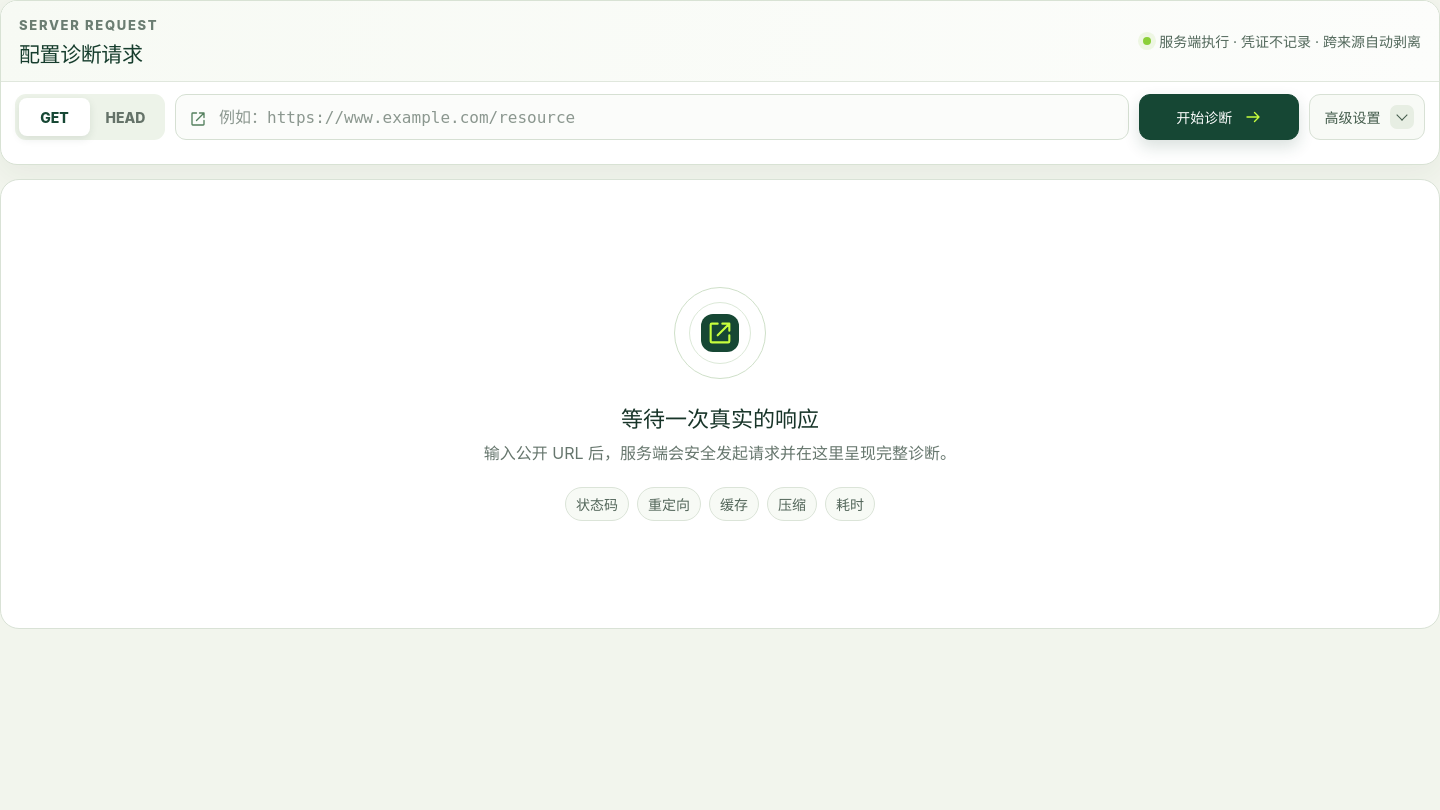
Test case: HttpDiagnosticsTool › normalizes fragments and redirects embedded credentials to the safe controls
Type "https://service.example.com/#/login" into the field named "目标 URL".
click(666, 117); type("https://service.example.com/#/login")  # box [217,96,1115,138]
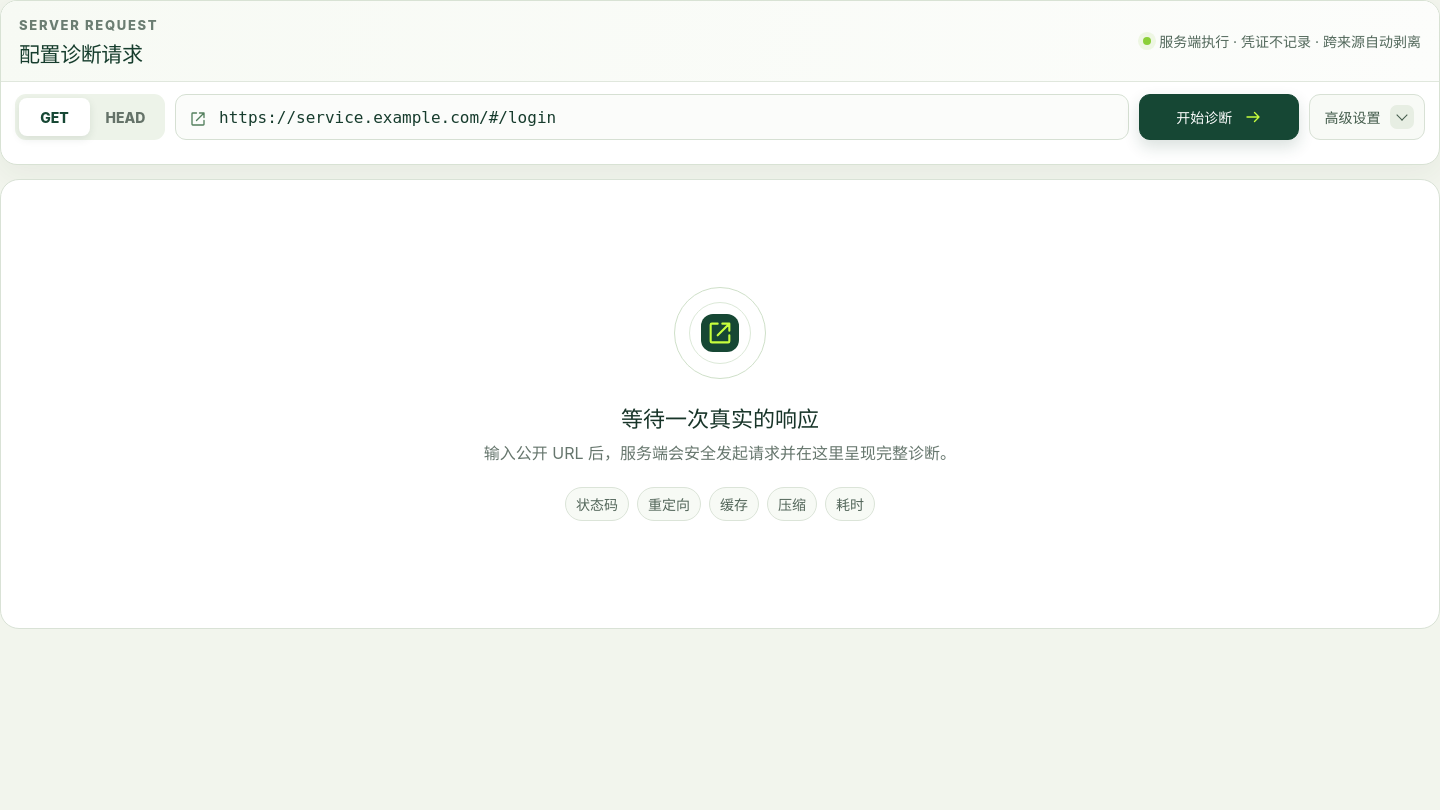
Click the button "开始诊断".
click(1219, 117)  # box [1139,94,1299,140]
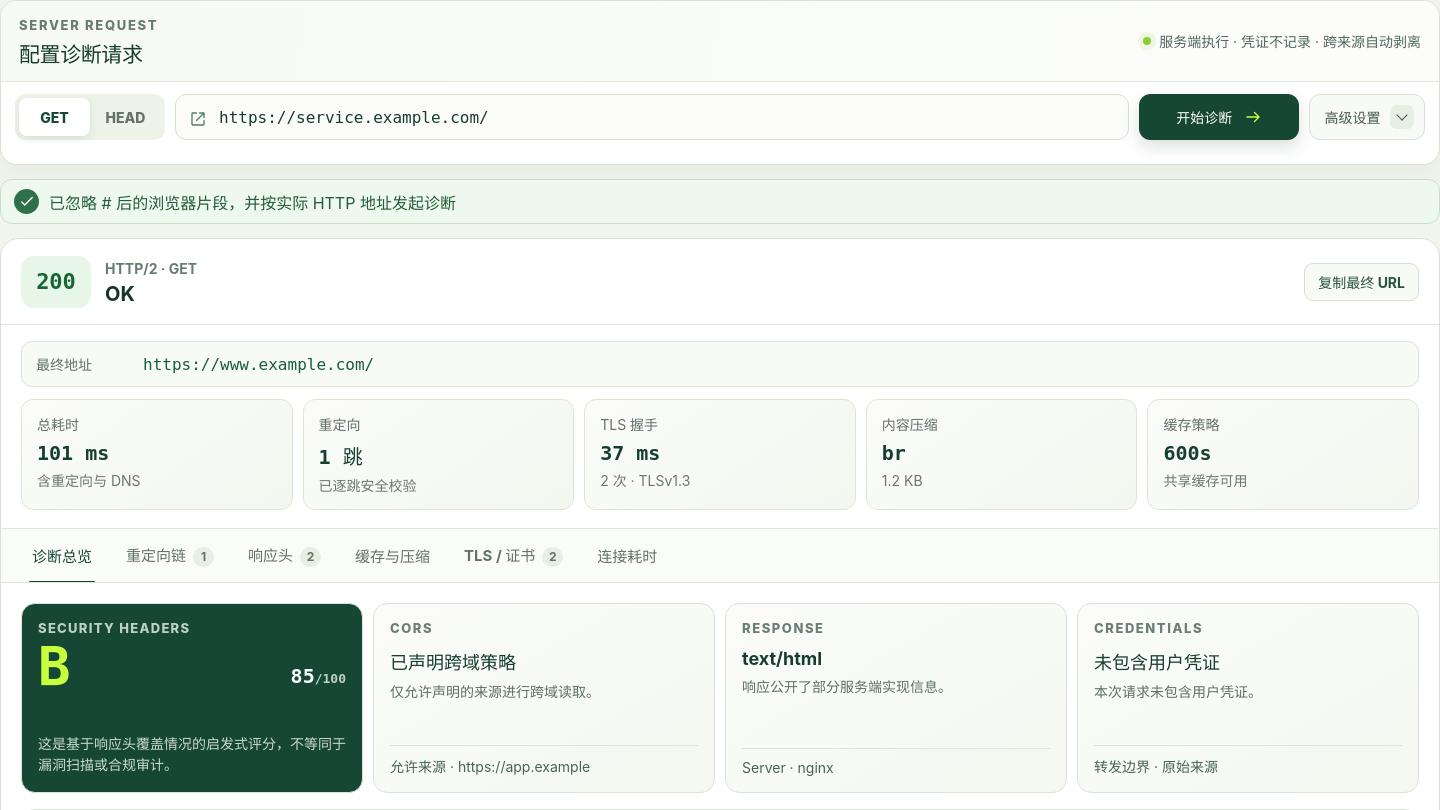
Expected: the field named "目标 URL" holds "https://service.example.com/"
Expected: the message shows "已忽略 # 后的浏览器片段", [49,192,456,212]
Replace the text in the field named "目标 URL" with "https://alice:secret@example.com/private" at (666, 117), box [217,96,1115,138]
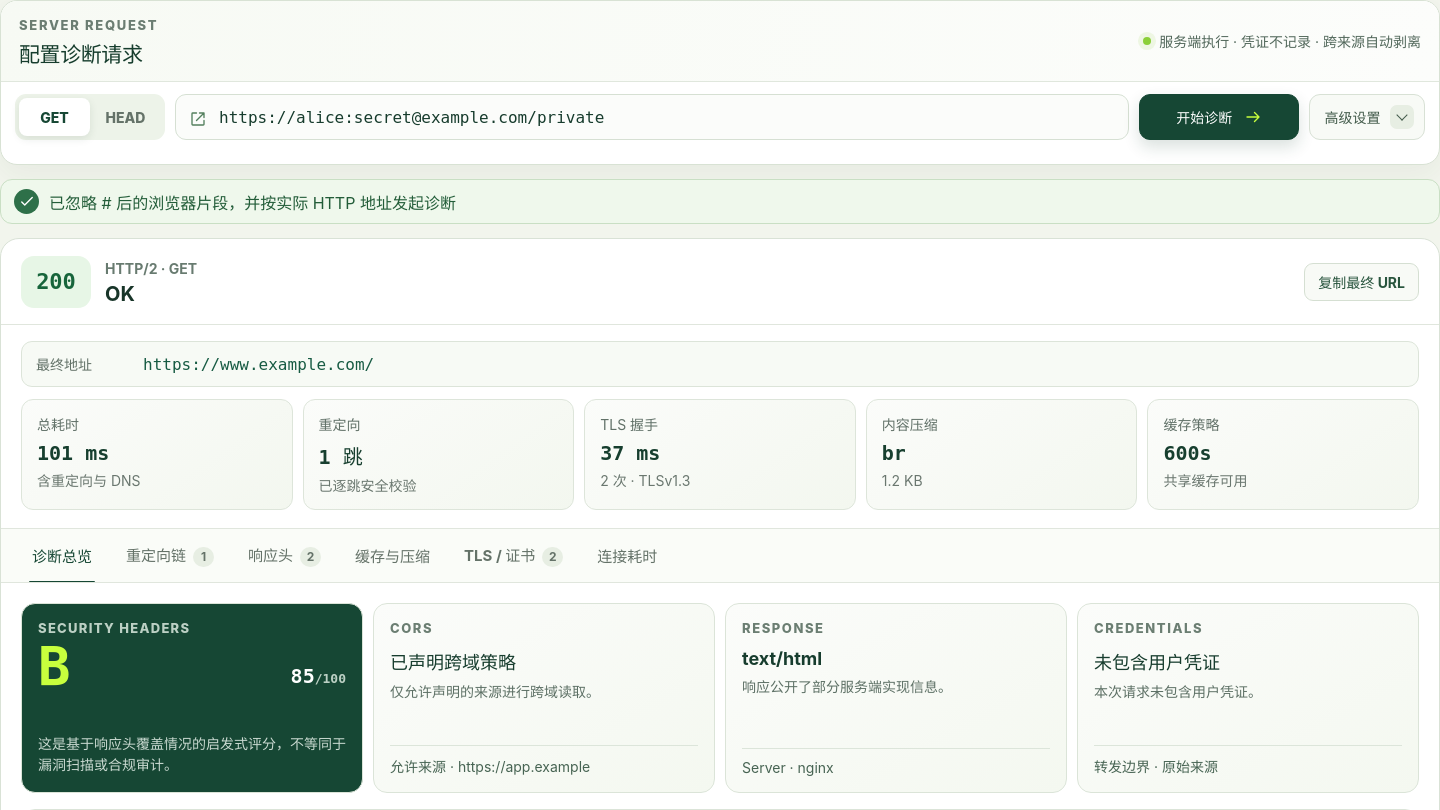
Click the button "开始诊断".
click(1219, 117)  # box [1139,94,1299,140]
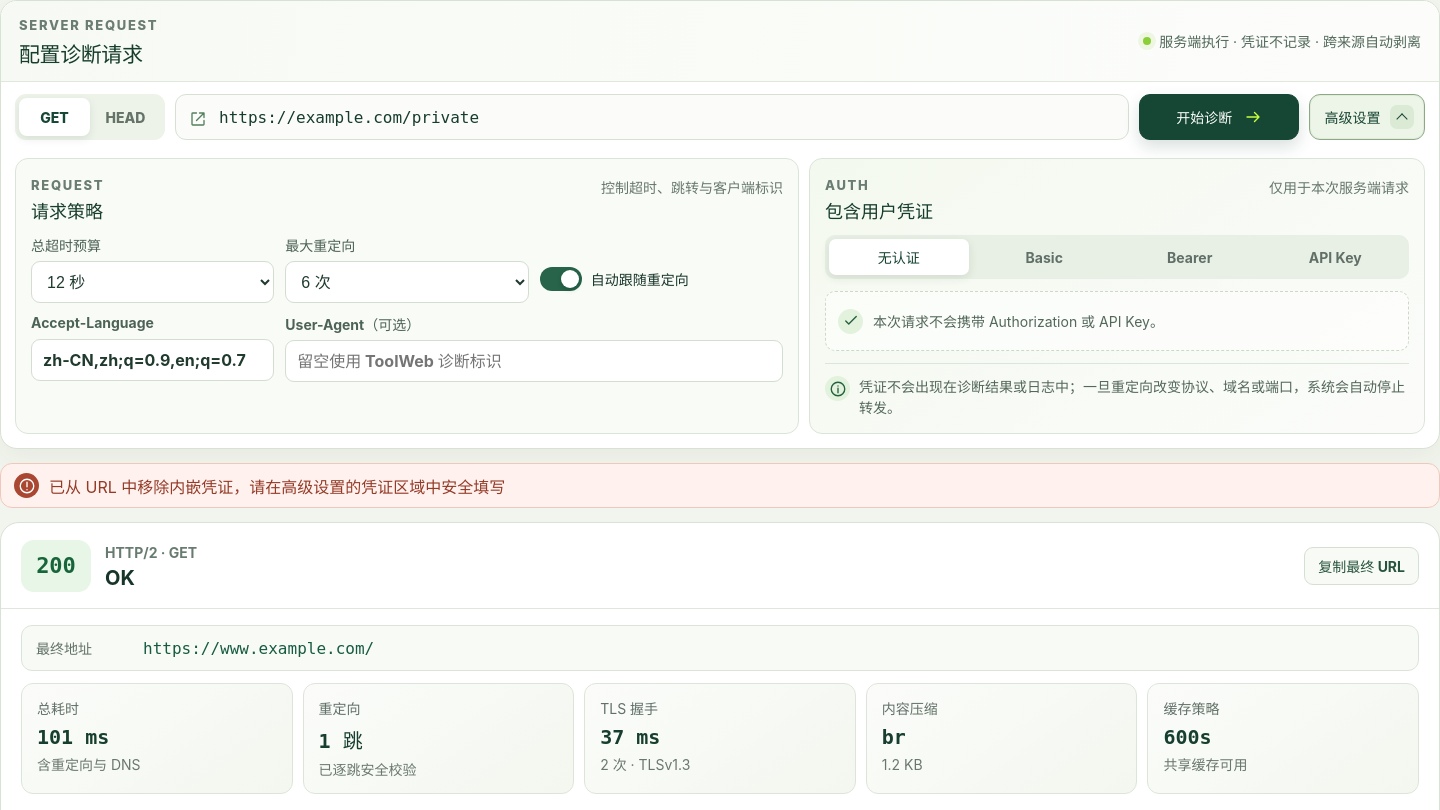
Expected: the field named "目标 URL" holds "https://example.com/private", [217,96,1115,138]
Expected: the message shows "高级设置的凭证区域", [49,476,505,496]
Expected: the button "高级设置" is expanded, [1309,94,1425,140]
